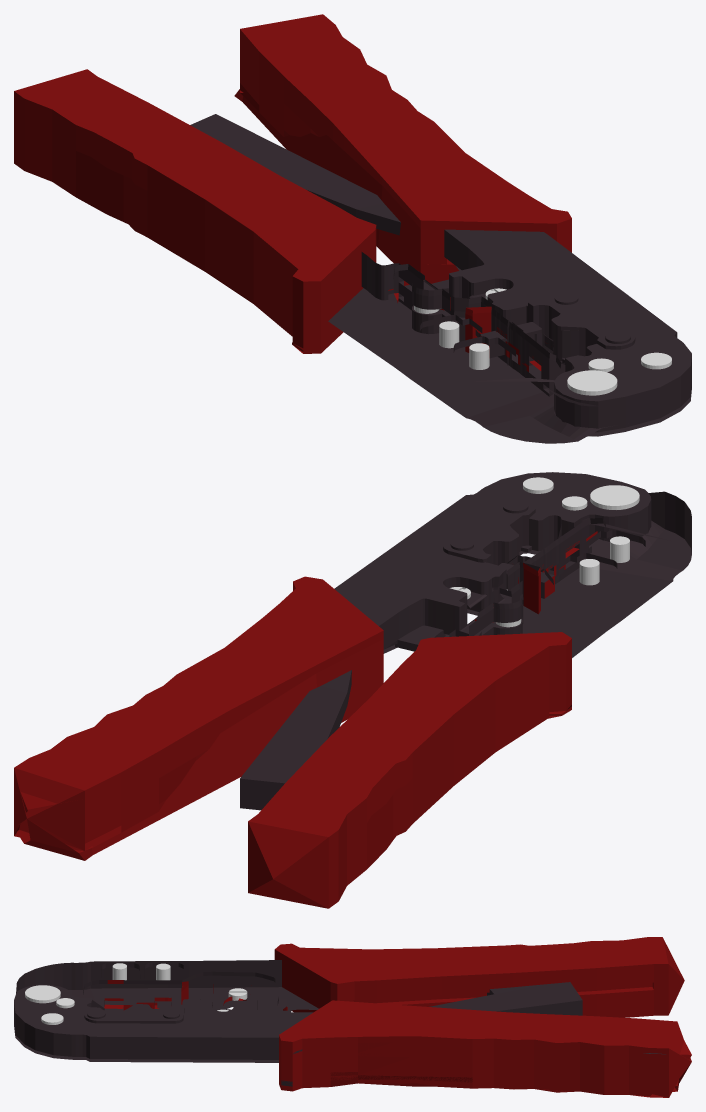
The model's file is crimper rj45.fbx.
3 renders of one model, top to bottom at view 1: azimuth 30°, elevation 25°; view 2: azimuth 150°, elevation 25°; view 3: azimuth 270°, elevation 25°, orthographic. The views are drawn at different scales.
Parts seen in each view (by area): view 1: Plane.001, Plane, Cylinder.001; view 2: Plane, Plane.001, Cylinder.001; view 3: Plane, Plane.001, Cylinder.001.
Boxes of the visible parts, x1,y1,x2,y2 form: Plane.001: [14, 69, 614, 443]; Plane: [190, 14, 691, 436]; Cylinder.001: [439, 321, 671, 436]; Plane: [14, 472, 651, 860]; Plane.001: [248, 491, 691, 908]; Cylinder.001: [523, 477, 639, 585]; Plane: [14, 982, 691, 1097]; Plane.001: [16, 937, 684, 1017]; Cylinder.001: [25, 963, 170, 1024].
Bounding box in the file's own units: 185 × 41.37 × 486.
